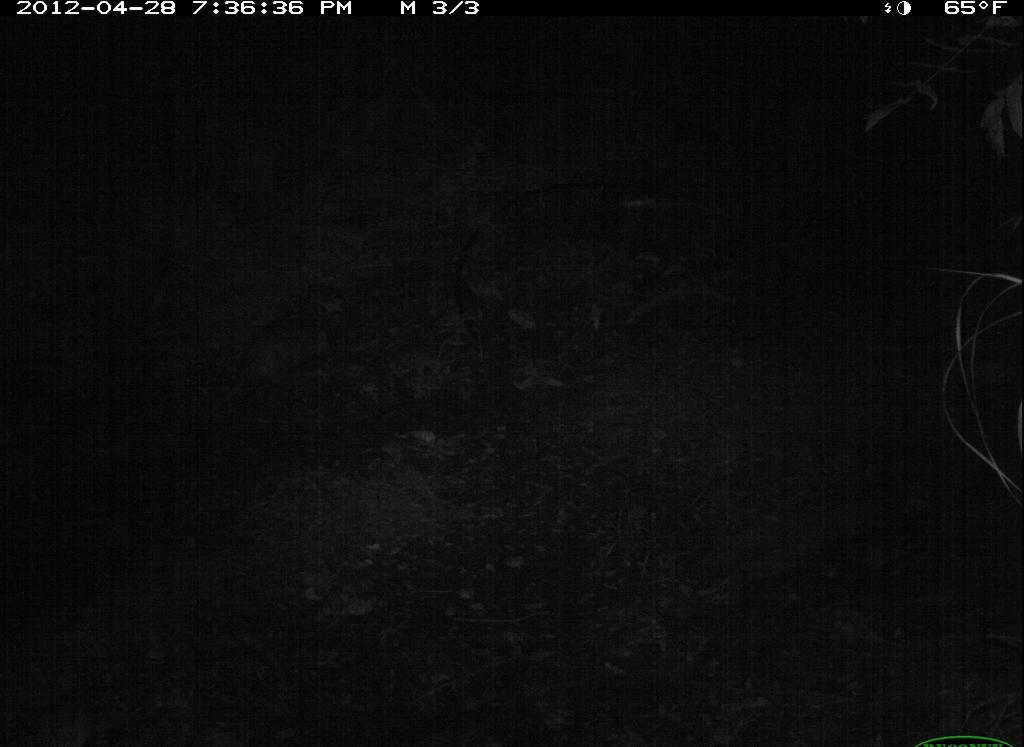opossum: (208, 291, 344, 411)
